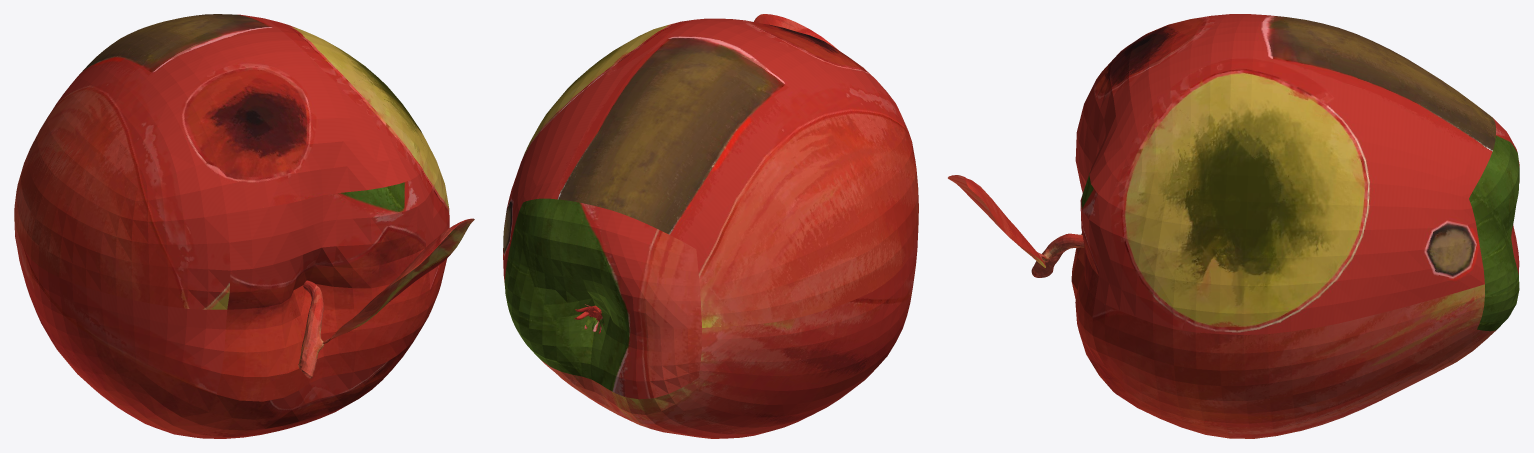
The model's file is fruit2.obj.
3 views of the same model, side by side, from view 1: azimuth 30°, elevation 25°; view 2: azimuth 150°, elevation 25°; view 3: azimuth 270°, elevation 25° (orthographic). The views are drawn at different scales.
Parts seen in each view (by area): view 1: Object.1; view 2: Object.1; view 3: Object.1.
Boxes of the visible parts, x1,y1,x2,y2 form: Object.1: [14, 14, 474, 438]; Object.1: [503, 14, 918, 438]; Object.1: [948, 14, 1519, 438].
Size of the model in its own units: 129 by 128 by 169.
1 material, 1 textured.
